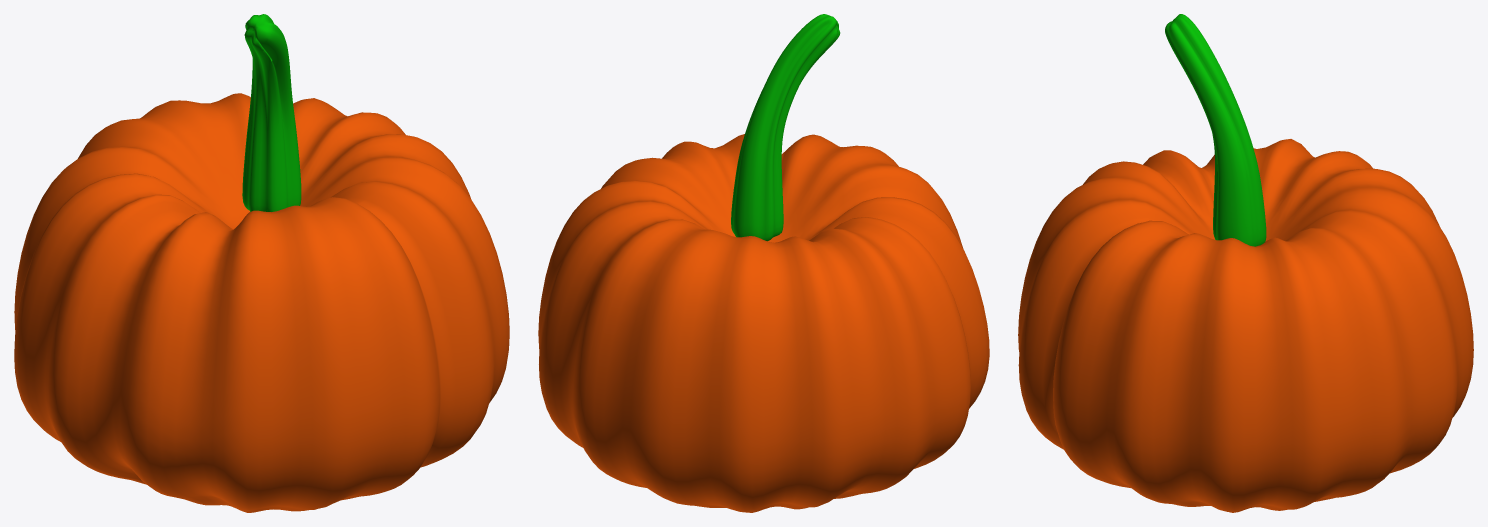
Rendered from pumkin_3.glb.
The picture shows the model from 3 angles, left to right: view 1: azimuth 30°, elevation 25°; view 2: azimuth 150°, elevation 25°; view 3: azimuth 270°, elevation 25°; orthographic projection. The views are drawn at different scales.
Visible parts, largest first — view 1: Sphere.001_5, Cylinder.001_4; view 2: Sphere.001_5, Cylinder.001_4; view 3: Sphere.001_5, Cylinder.001_4.
Part boxes in pixels (x1=…): Sphere.001_5: x1=14, y1=93, x2=509, y2=512; Cylinder.001_4: x1=242, y1=14, x2=301, y2=211; Sphere.001_5: x1=538, y1=134, x2=989, y2=512; Cylinder.001_4: x1=731, y1=14, x2=840, y2=241; Sphere.001_5: x1=1018, y1=139, x2=1473, y2=512; Cylinder.001_4: x1=1165, y1=14, x2=1266, y2=246.
Bounding box in the file's own units: 1.56 × 1.69 × 1.57.
